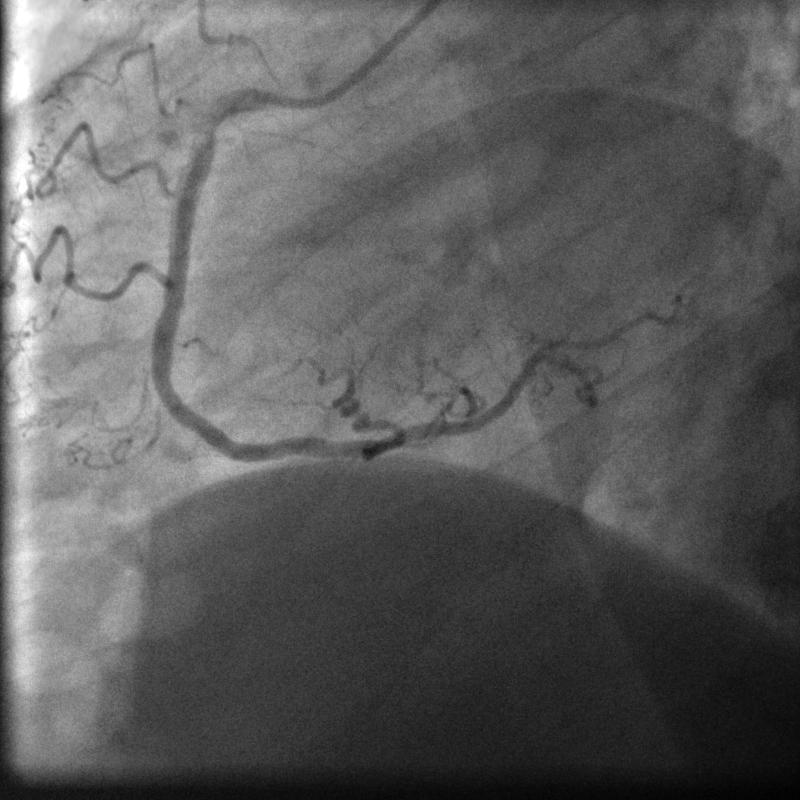Stenosis: (194, 98, 225, 153)
